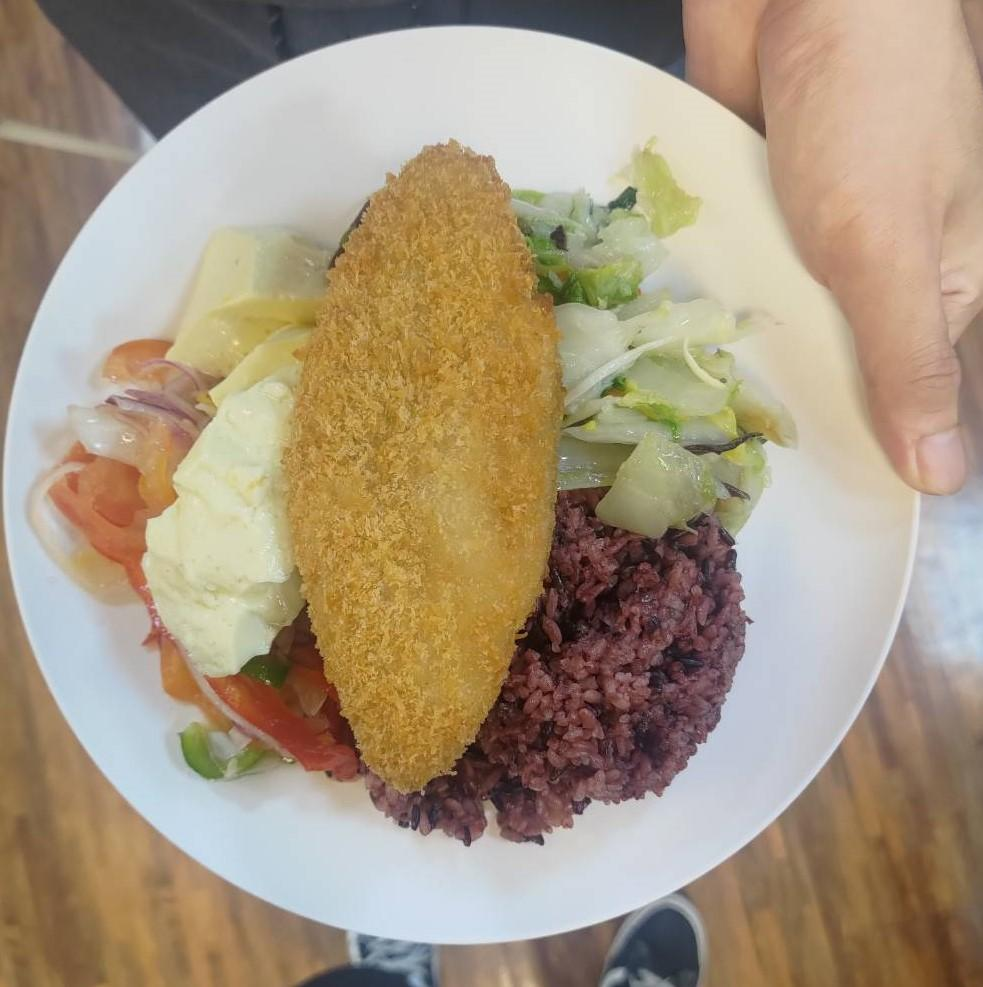big fried chicken leg: (12, 22, 930, 926)
braised fish: (375, 482, 742, 837)
braised fish fillet: (42, 334, 357, 803), (151, 219, 341, 675), (528, 172, 765, 526)
braised pork: (287, 134, 564, 805)
